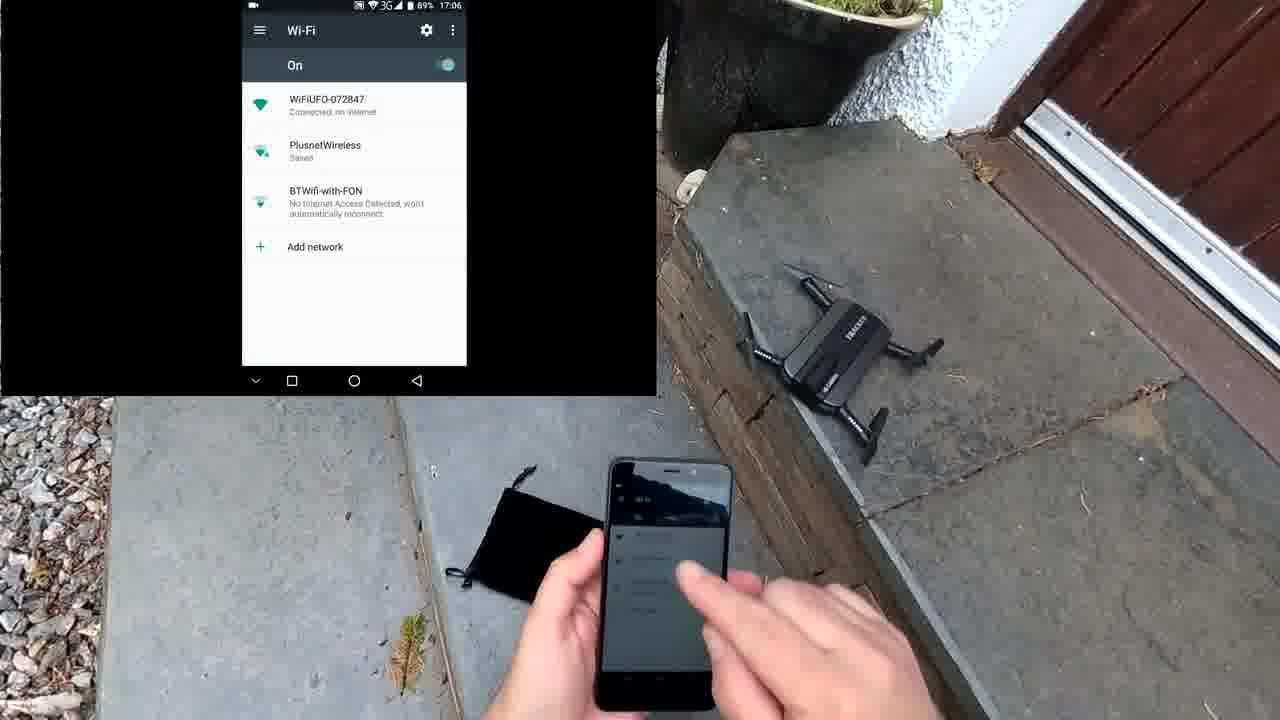drone: (712, 242, 943, 463)
